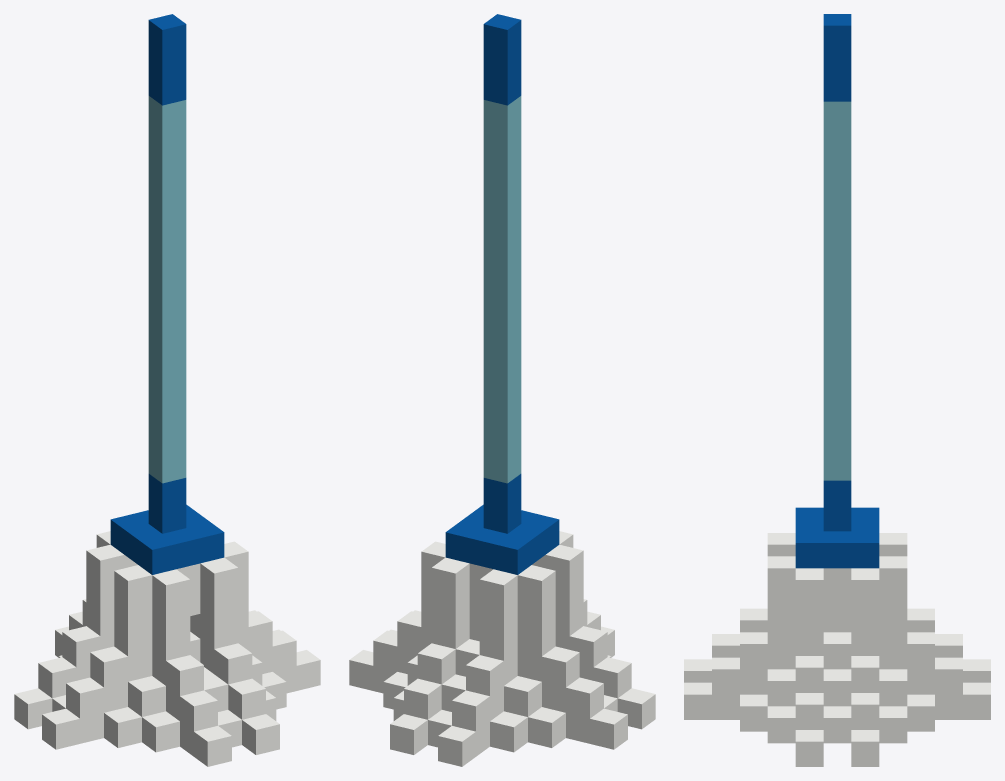
The model's file is Mop.fbx.
3 renders of one model, left to right at view 1: azimuth 30°, elevation 25°; view 2: azimuth 150°, elevation 25°; view 3: azimuth 270°, elevation 25°, orthographic.
Parts seen in each view (by area): view 1: mop:mop; view 2: mop:mop; view 3: mop:mop.
Part boxes in pixels (<box>): mop:mop: <box>14,14,320,766</box>; mop:mop: <box>349,14,655,766</box>; mop:mop: <box>684,14,990,766</box>.
Bounding box in the file's own units: 11 × 27 × 11.
